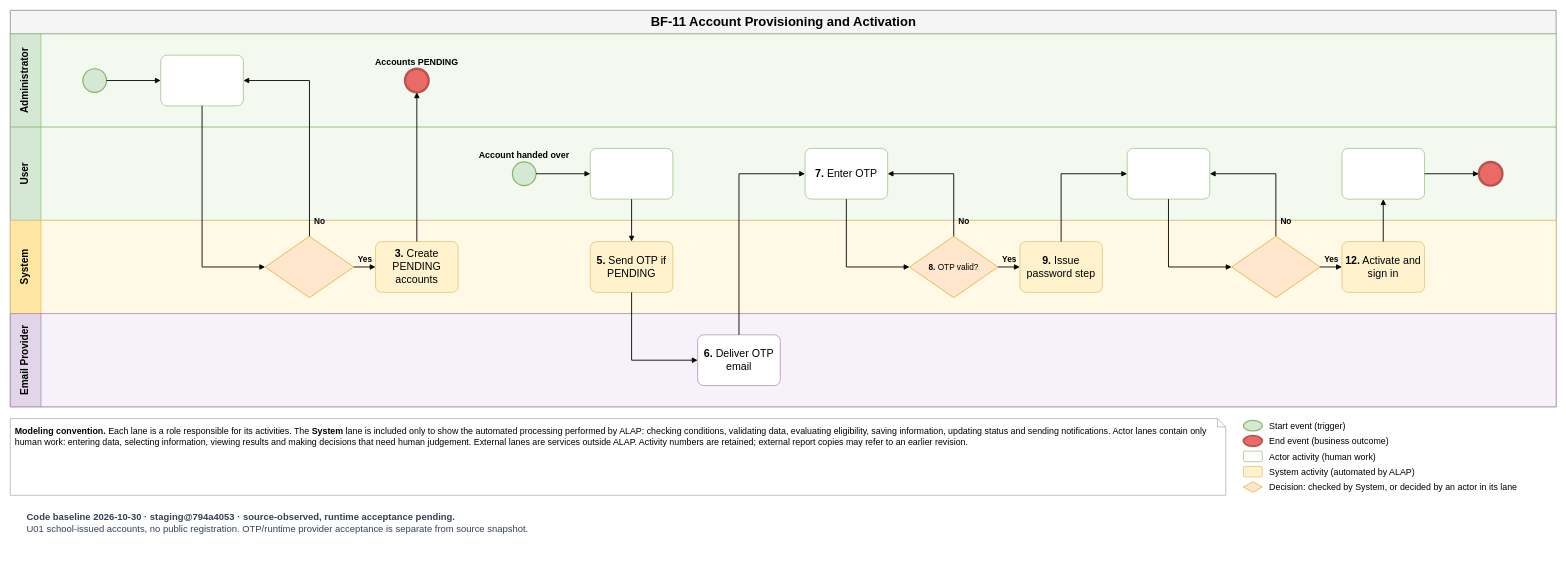
Some shapes in this 1566 by 568 pixel diagram are drawn without their labels. The centre of each missing label's shape, as x and y in pixels:
1. Add account or import CSV: (201,80)
10. Set password: (1168,173)
11. Policy met?: (1275,267)
13. Open role dashboard: (1383,173)
2. Data valid?: (309,267)
4. Request activation code: (631,173)
Account active: (1490,173)
New users for the term: (94,80)
